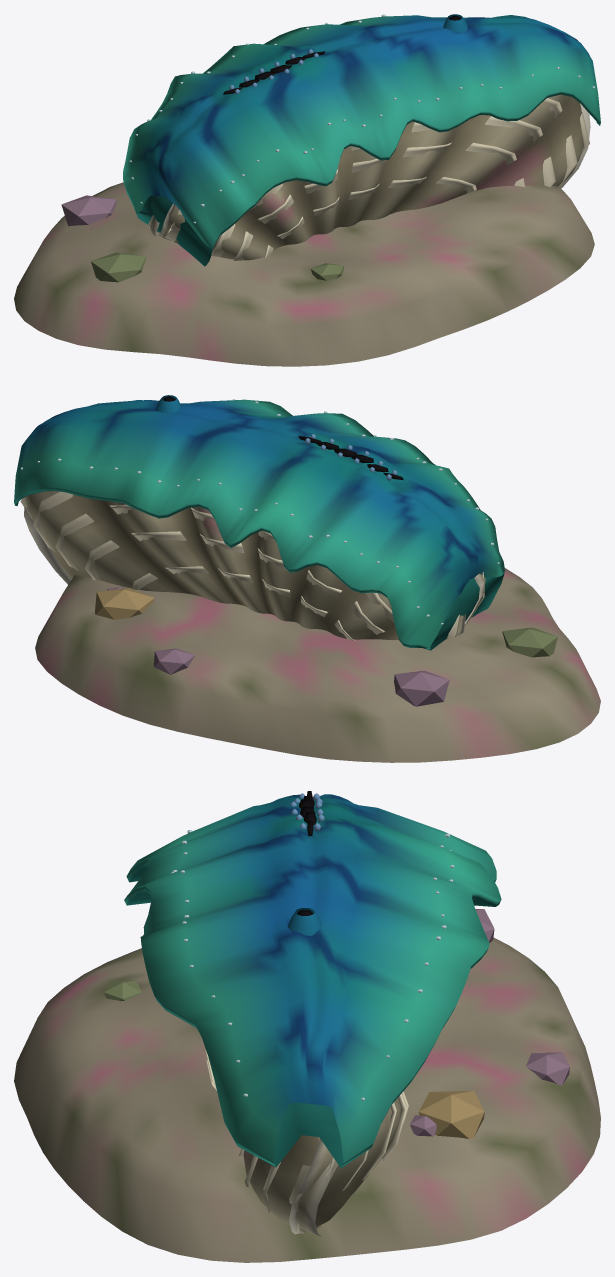
File: SmallGiantClam.fbx
3 views of the same model, one above another, from view 1: azimuth 30°, elevation 25°; view 2: azimuth 150°, elevation 25°; view 3: azimuth 270°, elevation 25° (orthographic). The views are drawn at different scales.
Parts seen in each view (by area): view 1: SmallGiantClam; view 2: SmallGiantClam; view 3: SmallGiantClam.
Boxes of the visible parts, x1,y1,x2,y2 form: SmallGiantClam: [14, 14, 600, 366]; SmallGiantClam: [14, 395, 600, 762]; SmallGiantClam: [14, 791, 600, 1262].
Size of the model in its own units: 1.93 by 0.8143 by 1.35.
